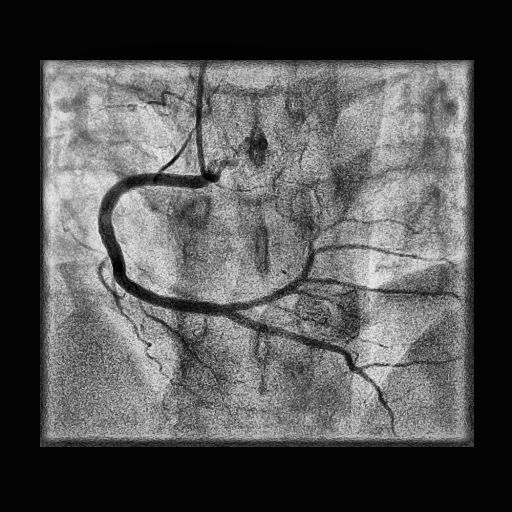pborca: (227, 240, 314, 311)
pda: (228, 311, 395, 420)
rca: (99, 173, 238, 318)
